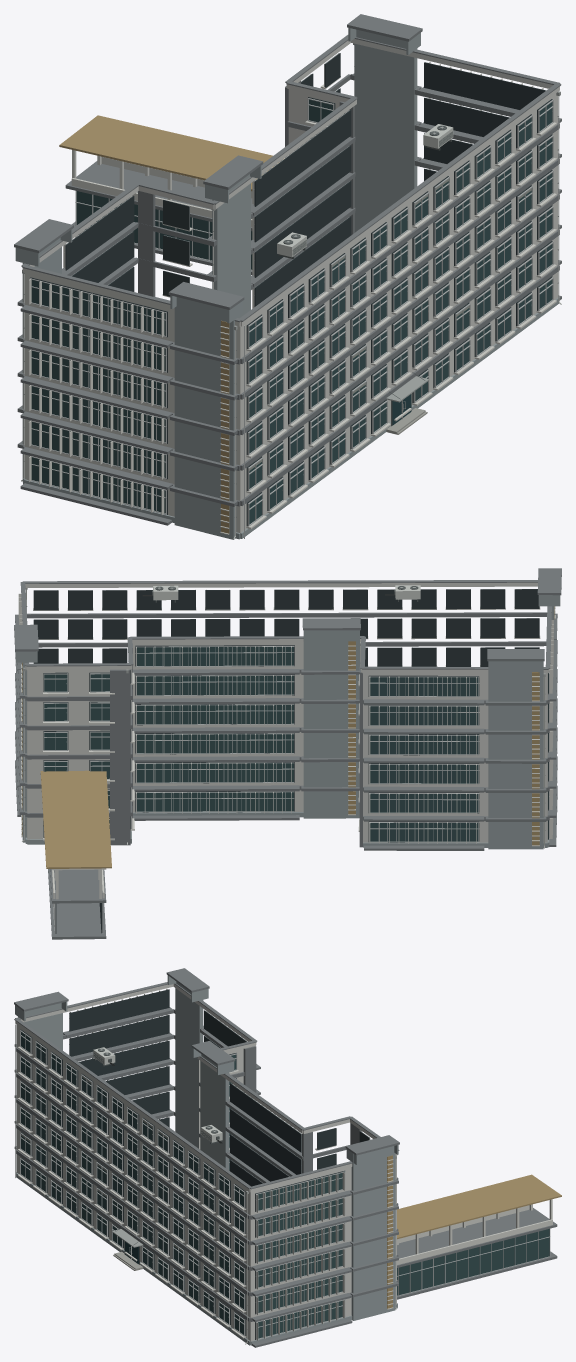
The model's file is osm_way_1173057035.glb.
The picture shows the model from 3 angles, top to bottom: view 1: azimuth 30°, elevation 25°; view 2: azimuth 150°, elevation 25°; view 3: azimuth 270°, elevation 25°; orthographic projection. The views are drawn at different scales.
Parts seen in each view (by area): view 1: Windows and facade details | 樱苑55栋, Architecture | 樱苑55栋, Roof services | 樱苑55栋, EXTERIOR::osm_way_1173057035::rainwater and roof service det, EXTERIOR::osm_way_1173057035::inferred entry doors canopy an; view 2: Architecture | 樱苑55栋, Windows and facade details | 樱苑55栋, Roof services | 樱苑55栋, EXTERIOR::osm_way_1173057035::rainwater and roof service det; view 3: Windows and facade details | 樱苑55栋, Architecture | 樱苑55栋, Roof services | 樱苑55栋, EXTERIOR::osm_way_1173057035::rainwater and roof service det, EXTERIOR::osm_way_1173057035::inferred entry doors canopy an.
Boxes of the visible parts, box(x1,y1,x2,y2) form: Windows and facade details | 樱苑55栋: box(28, 53, 556, 538); Architecture | 樱苑55栋: box(17, 29, 561, 539); Roof services | 樱苑55栋: box(14, 14, 561, 323); EXTERIOR::osm_way_1173057035::rainwater and roof service det: box(21, 43, 561, 538); EXTERIOR::osm_way_1173057035::inferred entry doors canopy an: box(386, 372, 429, 434); Architecture | 樱苑55栋: box(15, 582, 557, 939); Windows and facade details | 樱苑55栋: box(18, 589, 555, 933); Roof services | 樱苑55栋: box(14, 568, 561, 868); EXTERIOR::osm_way_1173057035::rainwater and roof service det: box(22, 585, 545, 848); Windows and facade details | 樱苑55栋: box(15, 988, 550, 1340); Architecture | 樱苑55栋: box(14, 982, 557, 1347); Roof services | 樱苑55栋: box(14, 968, 561, 1239); EXTERIOR::osm_way_1173057035::rainwater and roof service det: box(93, 1047, 396, 1344); EXTERIOR::osm_way_1173057035::inferred entry doors canopy an: box(112, 1226, 143, 1270).
Bounding box in the file's own units: 56.67 × 21.28 × 62.13.
